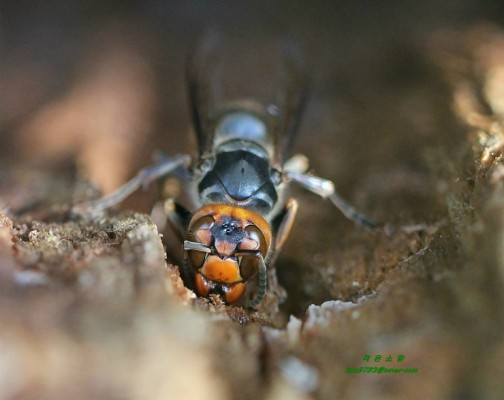asian_giant_hornet: (176, 96, 298, 320)
